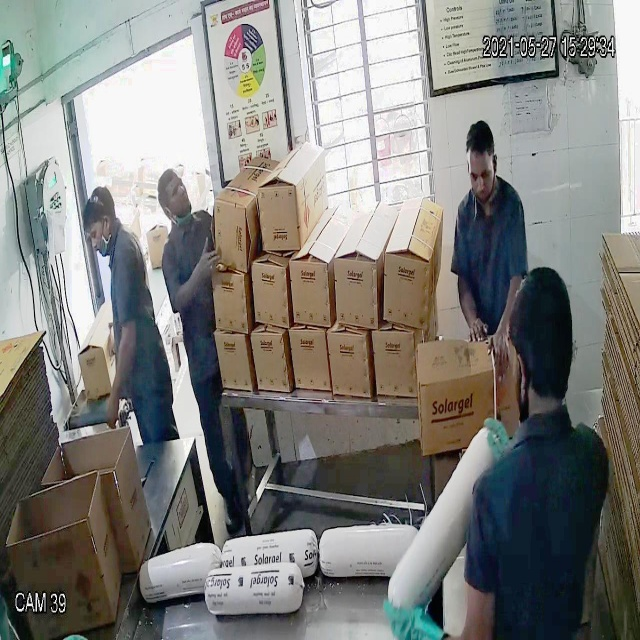Sin_gafas: (464, 162, 499, 188)
